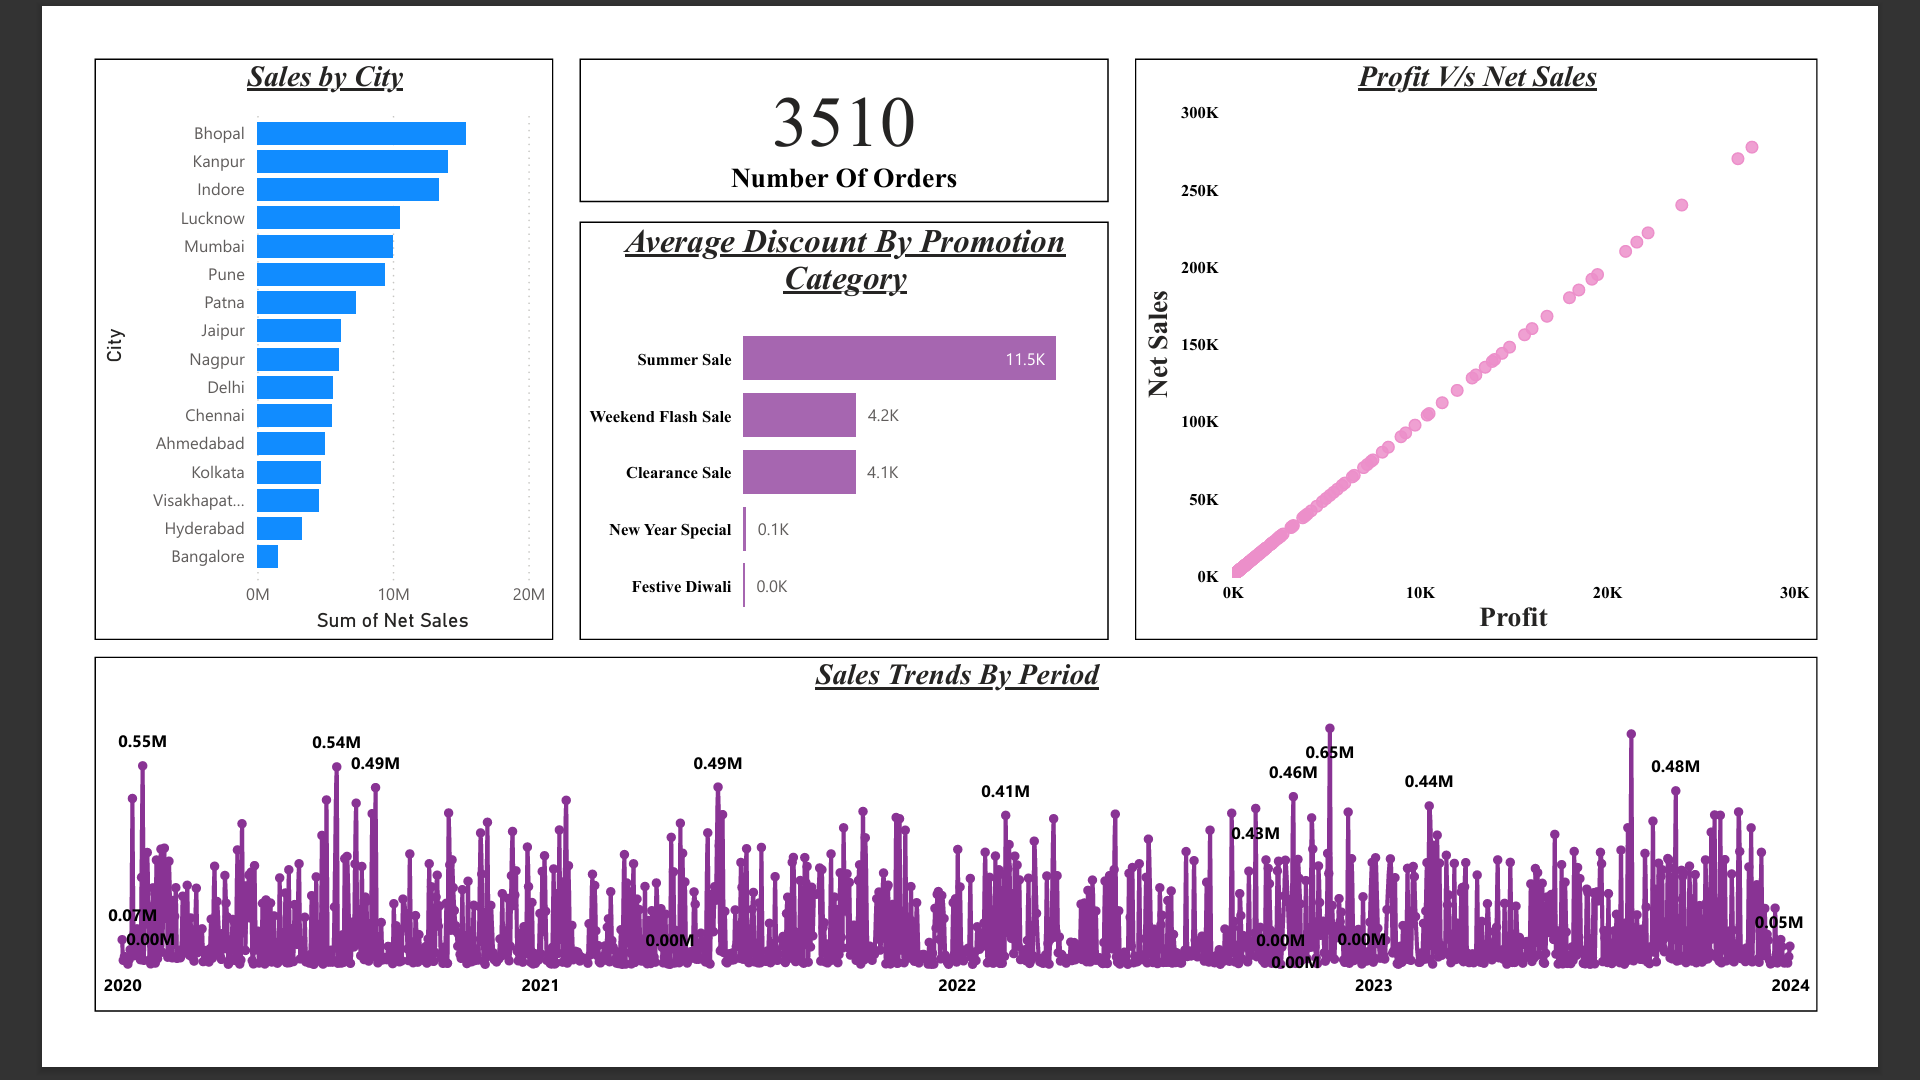

The dashboard page shown, as its layout file describes it:
{"tool":"powerbi","page":{"name":"Overview","canvas":[1280,720],"ordinal":0},"visuals":[{"type":"lineChart","title":"Sales Trends By Period","fields":{"Y":["Sum(Fact Table.Net Sales   )"],"Category":["Fact Table.Date (dd/mm/yyyy).Variation.Date Hierarchy.Year"]},"box":[13.7,447.3,1247.3,256.6],"z":0},{"type":"scatterChart","title":"Profit V/s Net Sales   ","fields":{"X":["Fact Table.Profit"],"Y":["Sum(Fact Table.Net Sales   )"]},"box":[767.1,13.7,494,421.3],"z":1000},{"type":"barChart","title":"Average Discount By Promotion Category","fields":{"Y":["Sum(Fact Table.Discount Percentage)"],"Category":["Dim Promotion.Promotion Name"]},"box":[365,131.7,382.8,303.3],"z":2000},{"type":"map","title":"Sales by City","fields":{"Category":["Dim Customers.City"],"Size":["Sum(Fact Table.Net Sales   )"]},"box":[13.7,13.7,332.1,421.3],"z":3000},{"type":"card","fields":{"Values":["Count(Fact Table.Index)"]},"box":[365,13.7,382.8,104.3],"z":4000}]}

Visuals, with their boxes in screenshot pixels (x1, y1, x2, y2), scaled from the page's 1280x720 canvas onto the 1920x1080 screenshot:
"Sales Trends By Period" lineChart: [21,671,1892,1056]
"Profit V/s Net Sales   " scatterChart: [1151,21,1892,652]
"Average Discount By Promotion Category" barChart: [548,198,1122,652]
"Sales by City" map: [21,21,519,652]
card - Count(Fact Table.Index): [548,21,1122,177]
